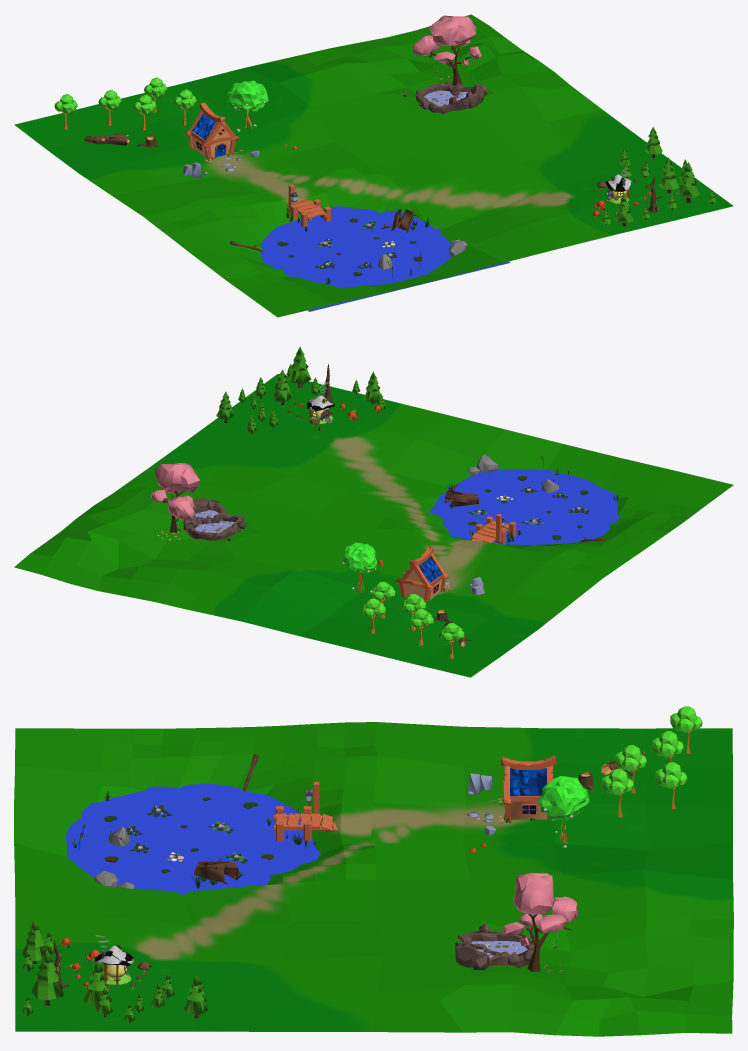
File: ambiente_fim.fbx
The picture shows the model from 3 angles, top to bottom: view 1: azimuth 30°, elevation 25°; view 2: azimuth 150°, elevation 25°; view 3: azimuth 270°, elevation 25°; orthographic projection. The views are drawn at different scales.
Visible parts, largest first — view 1: Plane, agua, head.001, tree tops, base rocks, tronco2, Cristmas Tree.001; view 2: Plane, agua, head.001, tree tops, base rocks, tronco2, Icosphere.005, Cristmas Tree.001; view 3: Plane, agua, head.001, tree tops, tronco2, base rocks, Cristmas Tree.001, uploads_files_968058_3dLakeLowPoly.007, tronco.001, tronco.004, Icosphere.005, tronco.003 (+6 smaller).
Part boxes in pixels (<box>): Plane: <box>14,14,733,317</box>; agua: <box>260,206,510,311</box>; head.001: <box>183,102,631,203</box>; tree tops: <box>412,15,481,85</box>; base rocks: <box>416,84,483,113</box>; tronco2: <box>226,80,268,131</box>; Cristmas Tree.001: <box>677,162,700,203</box>; Plane: <box>14,373,733,677</box>; agua: <box>429,469,620,544</box>; head.001: <box>307,382,484,602</box>; tree tops: <box>151,463,200,532</box>; base rocks: <box>187,497,243,540</box>; tronco2: <box>342,542,377,593</box>; Icosphere.005: <box>467,455,559,492</box>; Cristmas Tree.001: <box>288,346,311,387</box>; Plane: <box>14,722,733,1036</box>; agua: <box>66,783,320,895</box>; head.001: <box>95,755,556,984</box>; tree tops: <box>502,873,578,971</box>; tronco2: <box>538,776,589,847</box>; base rocks: <box>455,931,534,967</box>; Cristmas Tree.001: <box>31,949,63,1005</box>; uploads_files_968058_3dLakeLowPoly.007: <box>194,857,239,884</box>; tronco.001: <box>602,768,634,817</box>; tronco.004: <box>670,706,702,753</box>; Icosphere.005: <box>94,826,134,888</box>; tronco.003: <box>655,762,687,808</box>.
Size of the model in its own units: 161 by 35.1 by 160.
